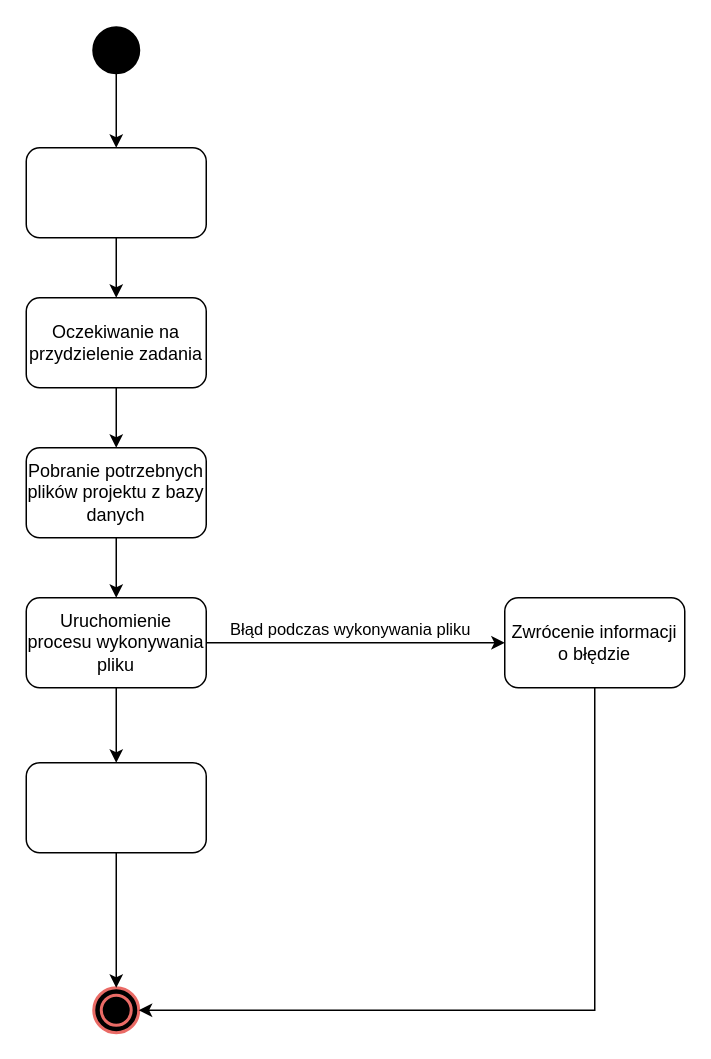
The diagram is 711 pixels wide and 1059 high, and some of its shapes have lost their labels. Here are the shapes that lost their labels. From the top down, the centre of each, then its label:
At pixel 115 192: "Uruchomienie end pointa Pracowników".
At pixel 115 807: "Umieszczenie pliku wynikowego w bazie danych".
